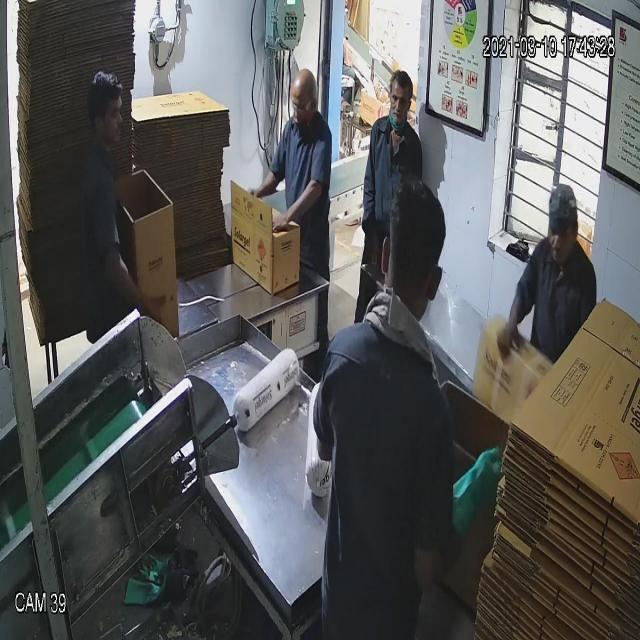No_Gloves: (36, 51, 513, 331)
